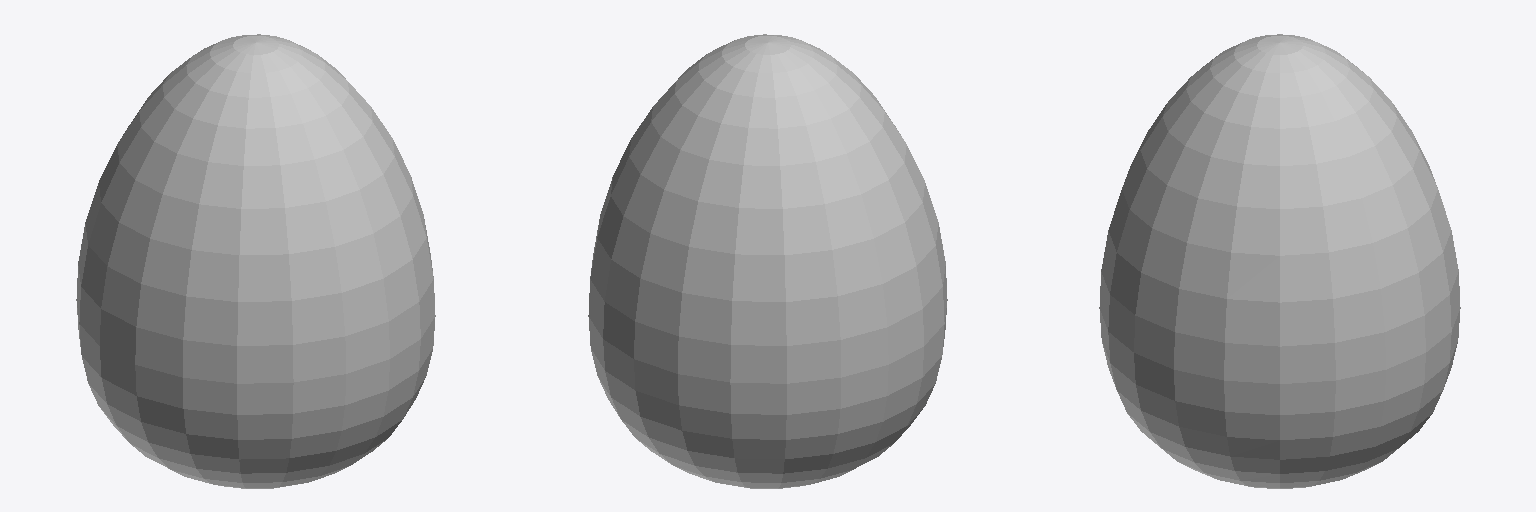
Rendered from Egg.obj.
3 renders of one model, left to right at view 1: azimuth 30°, elevation 25°; view 2: azimuth 150°, elevation 25°; view 3: azimuth 270°, elevation 25°, orthographic.
Bounding box in the file's own units: 0.0432 × 0.0564 × 0.0432.